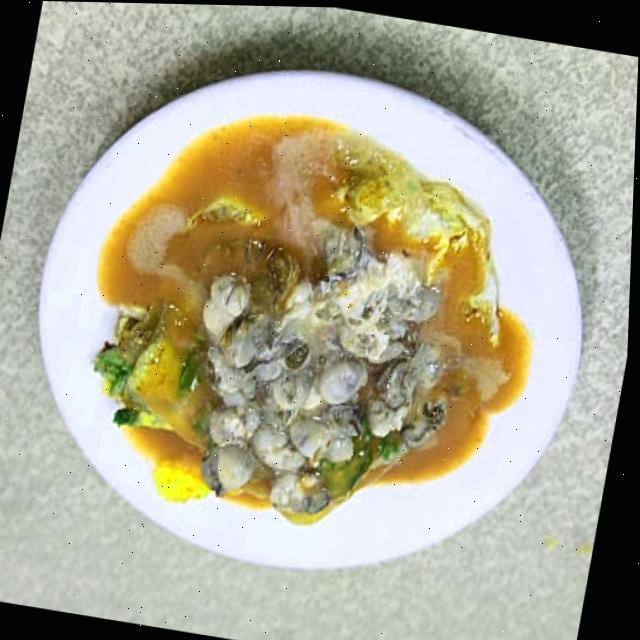熟制海鲜: (0, 16, 633, 640)
